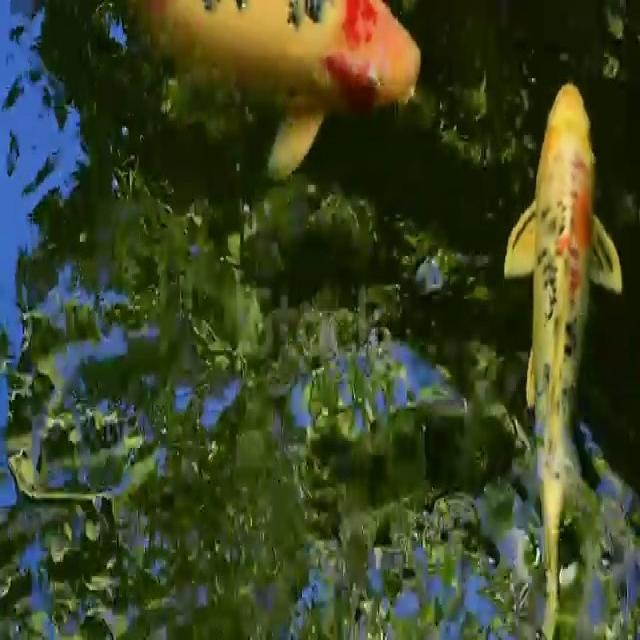fish: (504, 79, 626, 640), (156, 5, 417, 180)
